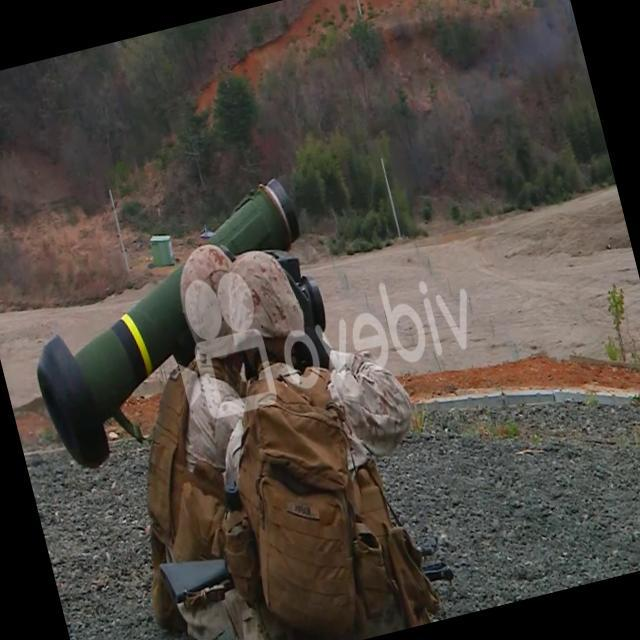rocket: (6, 180, 336, 476)
